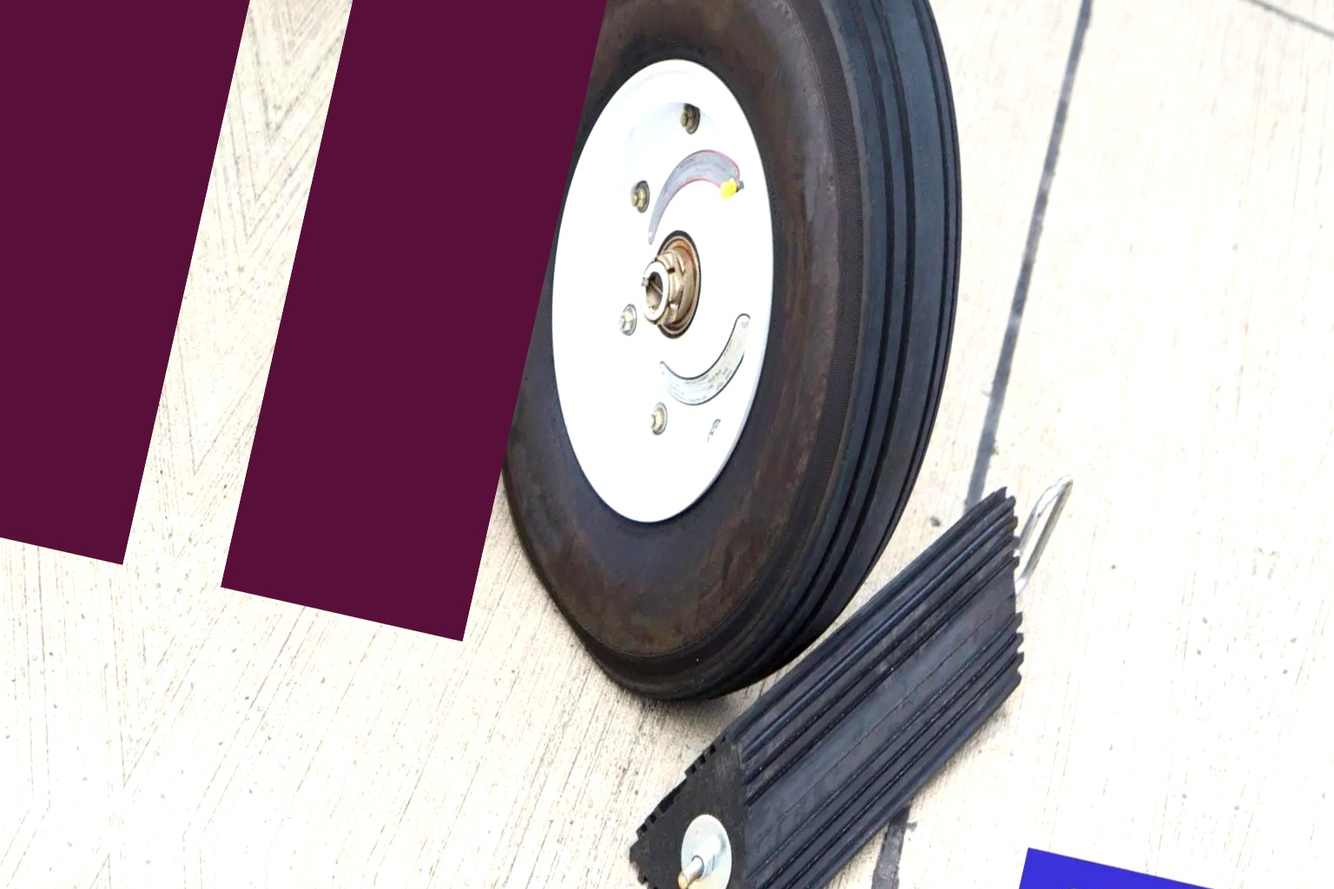chock: (609, 420, 1065, 889), (239, 181, 637, 580), (0, 85, 213, 485)
wheel: (396, 0, 1050, 755)
